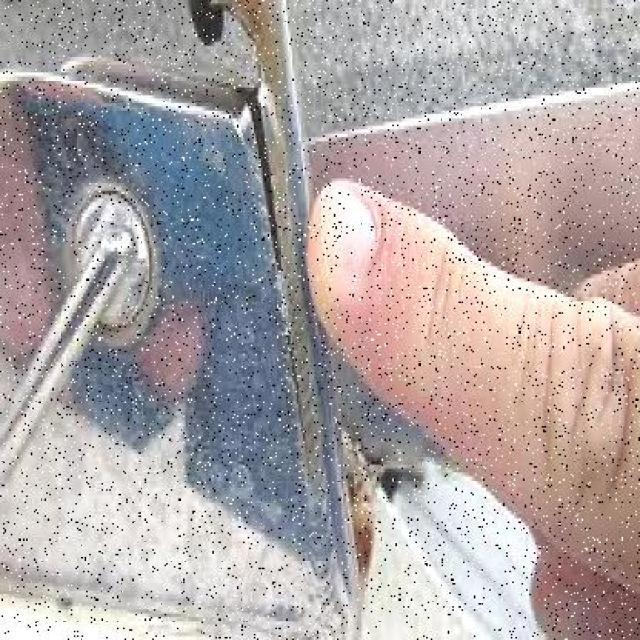Defect: (230, 53, 288, 285), (283, 320, 320, 465)
